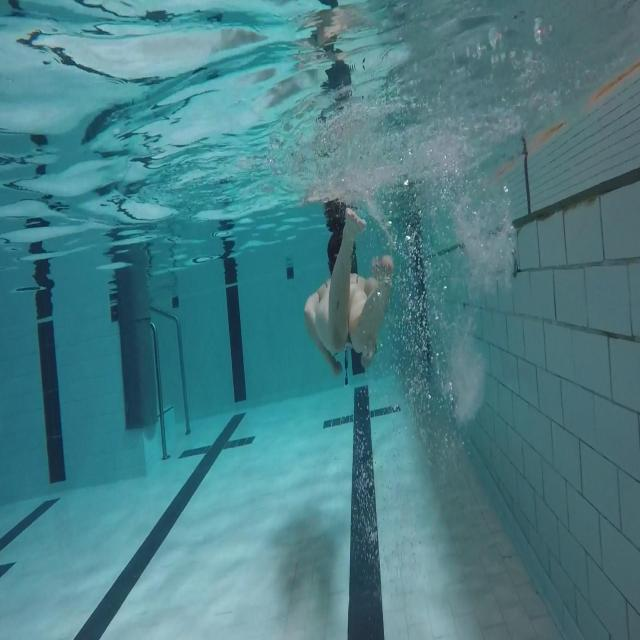human: (303, 202, 394, 381)
